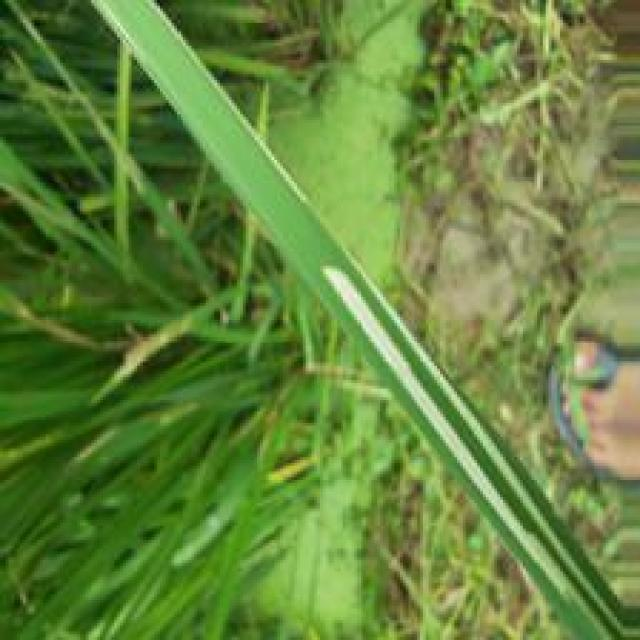Rice_Hispa: (313, 268, 570, 597), (362, 276, 566, 557)
